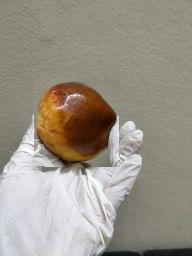Apple Rotten: (35, 79, 121, 168)
